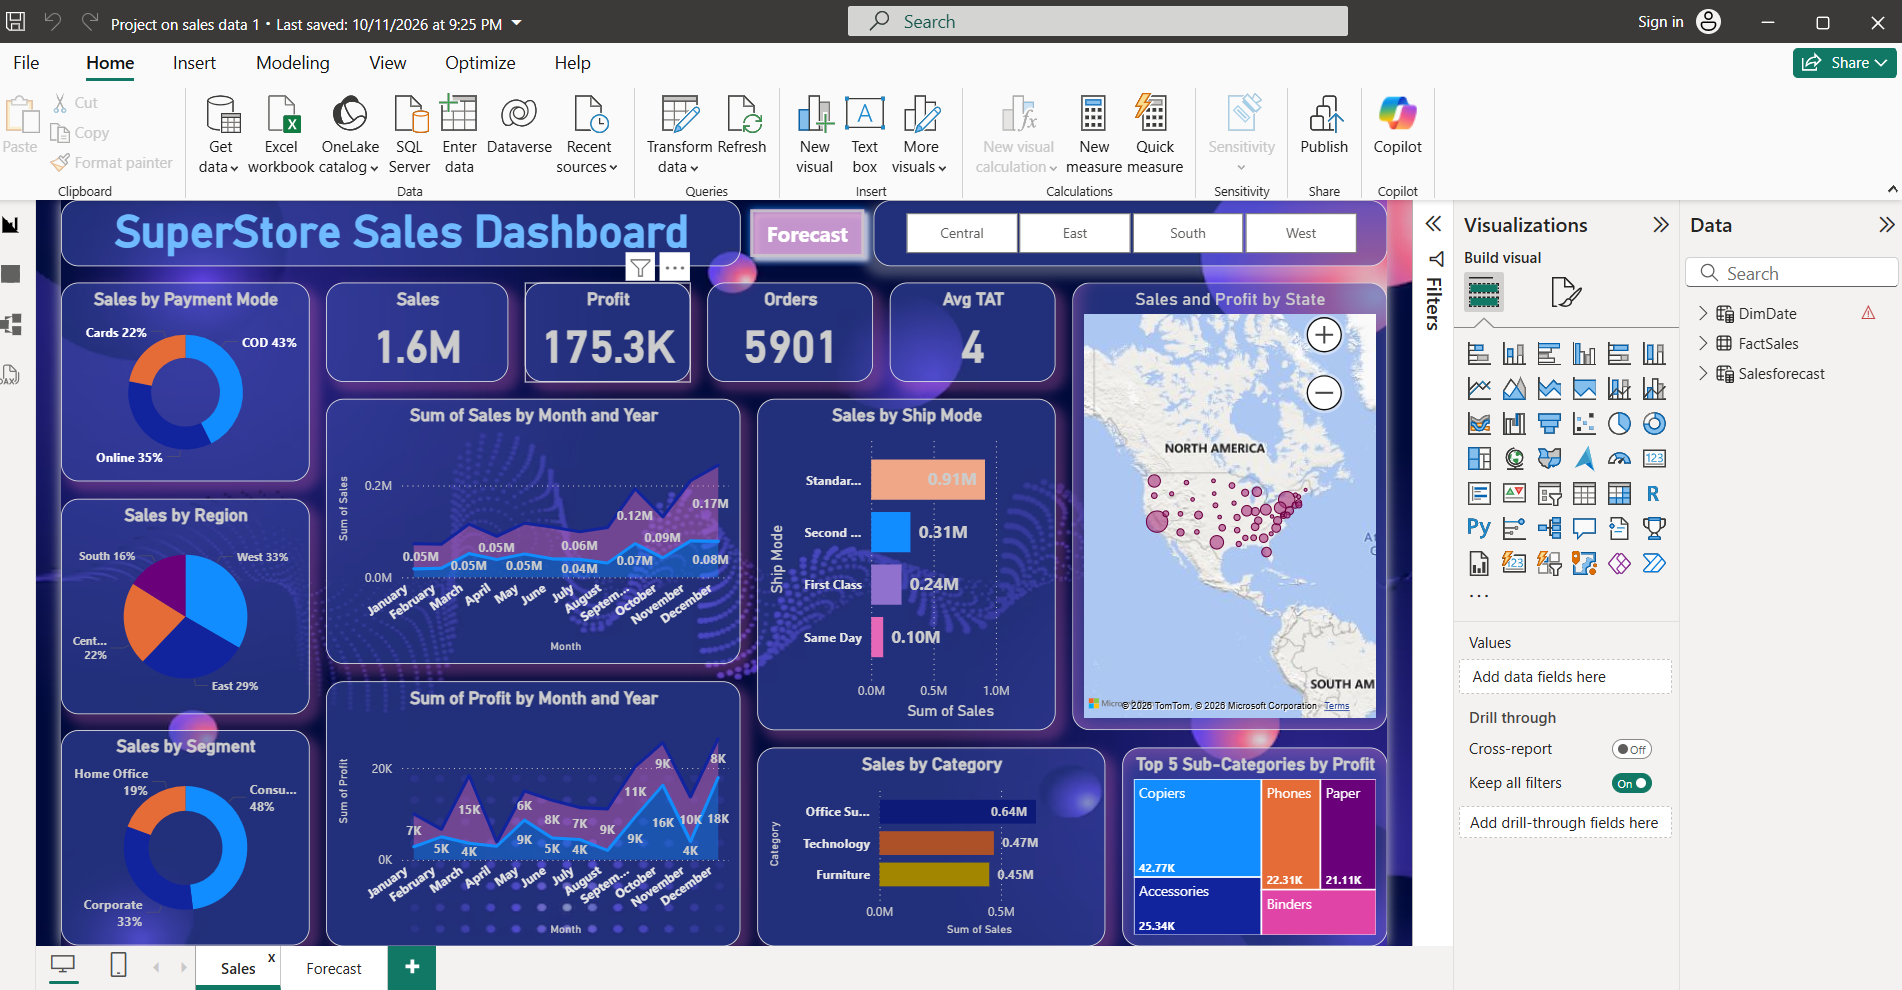

Layout of this report page (visuals, bound fields, positions):
{"tool":"powerbi","page":{"name":"Sales","canvas":[1280,720],"ordinal":0},"visuals":[{"type":"barChart","title":"Sales by Category","fields":{"Category":["SuperStore_Sales_Dataset.Category"],"Y":["Sum(SuperStore_Sales_Dataset.Sales)"]},"box":[672,528,336,192],"z":0},{"type":"barChart","title":"Sales by Ship Mode","fields":{"Y":["Sum(SuperStore_Sales_Dataset.Sales)"],"Category":["SuperStore_Sales_Dataset.Ship Mode"]},"box":[672,192,288,320],"z":1000},{"type":"stackedAreaChart","fields":{"Category":["SuperStore_Sales_Dataset.Order Date.Variation.Date Hierarchy.Month"],"Y":["Sum(SuperStore_Sales_Dataset.Sales)"],"Series":["SuperStore_Sales_Dataset.Order Date.Variation.Date Hierarchy.Year"]},"box":[256,192,400,256],"z":2000},{"type":"stackedAreaChart","fields":{"Category":["SuperStore_Sales_Dataset.Order Date.Variation.Date Hierarchy.Month"],"Series":["SuperStore_Sales_Dataset.Order Date.Variation.Date Hierarchy.Year"],"Y":["Sum(SuperStore_Sales_Dataset.Profit)"]},"box":[256,464,400,256],"z":3000},{"type":"textbox","title":"SuperStore Sales Dashboard","box":[0,0,656,64],"z":4000},{"type":"slicer","fields":{"Values":["SuperStore_Sales_Dataset.Region"]},"box":[784,0,496,64],"z":5000},{"type":"donutChart","title":"Sales by Payment Mode","fields":{"Y":["Sum(SuperStore_Sales_Dataset.Sales)"],"Category":["SuperStore_Sales_Dataset.Payment Mode"]},"box":[0,80,240,192],"z":6000},{"type":"pieChart","title":"Sales by Region","fields":{"Y":["Sum(SuperStore_Sales_Dataset.Sales)"],"Category":["SuperStore_Sales_Dataset.Region"]},"box":[0,288,240,208],"z":7000},{"type":"donutChart","title":"Sales by Segment","fields":{"Y":["Sum(SuperStore_Sales_Dataset.Sales)"],"Category":["SuperStore_Sales_Dataset.Segment"]},"box":[0,512,240,208],"z":8000},{"type":"map","title":"Sales and Profit by State","fields":{"Category":["SuperStore_Sales_Dataset.State"],"Size":["Sum(SuperStore_Sales_Dataset.Sales)"]},"box":[976,80,304,432],"z":9000},{"type":"card","title":"Avg TAT","fields":{"Values":["Avg(SuperStore_Sales_Dataset.AVG TAT)"]},"box":[800,80,160,96],"z":10000},{"type":"card","title":"Orders","fields":{"Values":["CountNonNull(SuperStore_Sales_Dataset.Order ID)"]},"box":[624,80,160,96],"z":11000},{"type":"card","title":"Profit","fields":{"Values":["Sum(SuperStore_Sales_Dataset.Profit)"]},"box":[448,80,160,96],"z":12000},{"type":"card","title":"Sales","fields":{"Values":["Sum(SuperStore_Sales_Dataset.Sales)"]},"box":[256,80,176,96],"z":13000},{"type":"treemap","title":"Top 5 Sub-Categories by Profit","fields":{"Group":["SuperStore_Sales_Dataset.Sub-Category"],"Values":["Sum(SuperStore_Sales_Dataset.Profit)"]},"box":[1024,528,256,192],"z":14000},{"type":"actionButton","box":[656,0,128,64],"z":15000}]}

Visuals, with their boxes on the page's 1280x720 design canvas (x1, y1, x2, y2). These are canvas units, not pixel positions in the 1902x990 screenshot, which may show the page scaled, cropped or inside an application window:
"Sales by Category" barChart: <box>672,528,1008,720</box>
"Sales by Ship Mode" barChart: <box>672,192,960,512</box>
stackedAreaChart - SuperStore_Sales_Dataset.Order Date.Variation.Date Hierarchy.Month x Sum(SuperStore_Sales_Dataset.Sales): <box>256,192,656,448</box>
stackedAreaChart - SuperStore_Sales_Dataset.Order Date.Variation.Date Hierarchy.Month x SuperStore_Sales_Dataset.Order Date.Variation.Date Hierarchy.Year: <box>256,464,656,720</box>
"SuperStore Sales Dashboard" textbox: <box>0,0,656,64</box>
slicer - SuperStore_Sales_Dataset.Region: <box>784,0,1280,64</box>
"Sales by Payment Mode" donutChart: <box>0,80,240,272</box>
"Sales by Region" pieChart: <box>0,288,240,496</box>
"Sales by Segment" donutChart: <box>0,512,240,720</box>
"Sales and Profit by State" map: <box>976,80,1280,512</box>
"Avg TAT" card: <box>800,80,960,176</box>
"Orders" card: <box>624,80,784,176</box>
"Profit" card: <box>448,80,608,176</box>
"Sales" card: <box>256,80,432,176</box>
"Top 5 Sub-Categories by Profit" treemap: <box>1024,528,1280,720</box>
actionButton: <box>656,0,784,64</box>
